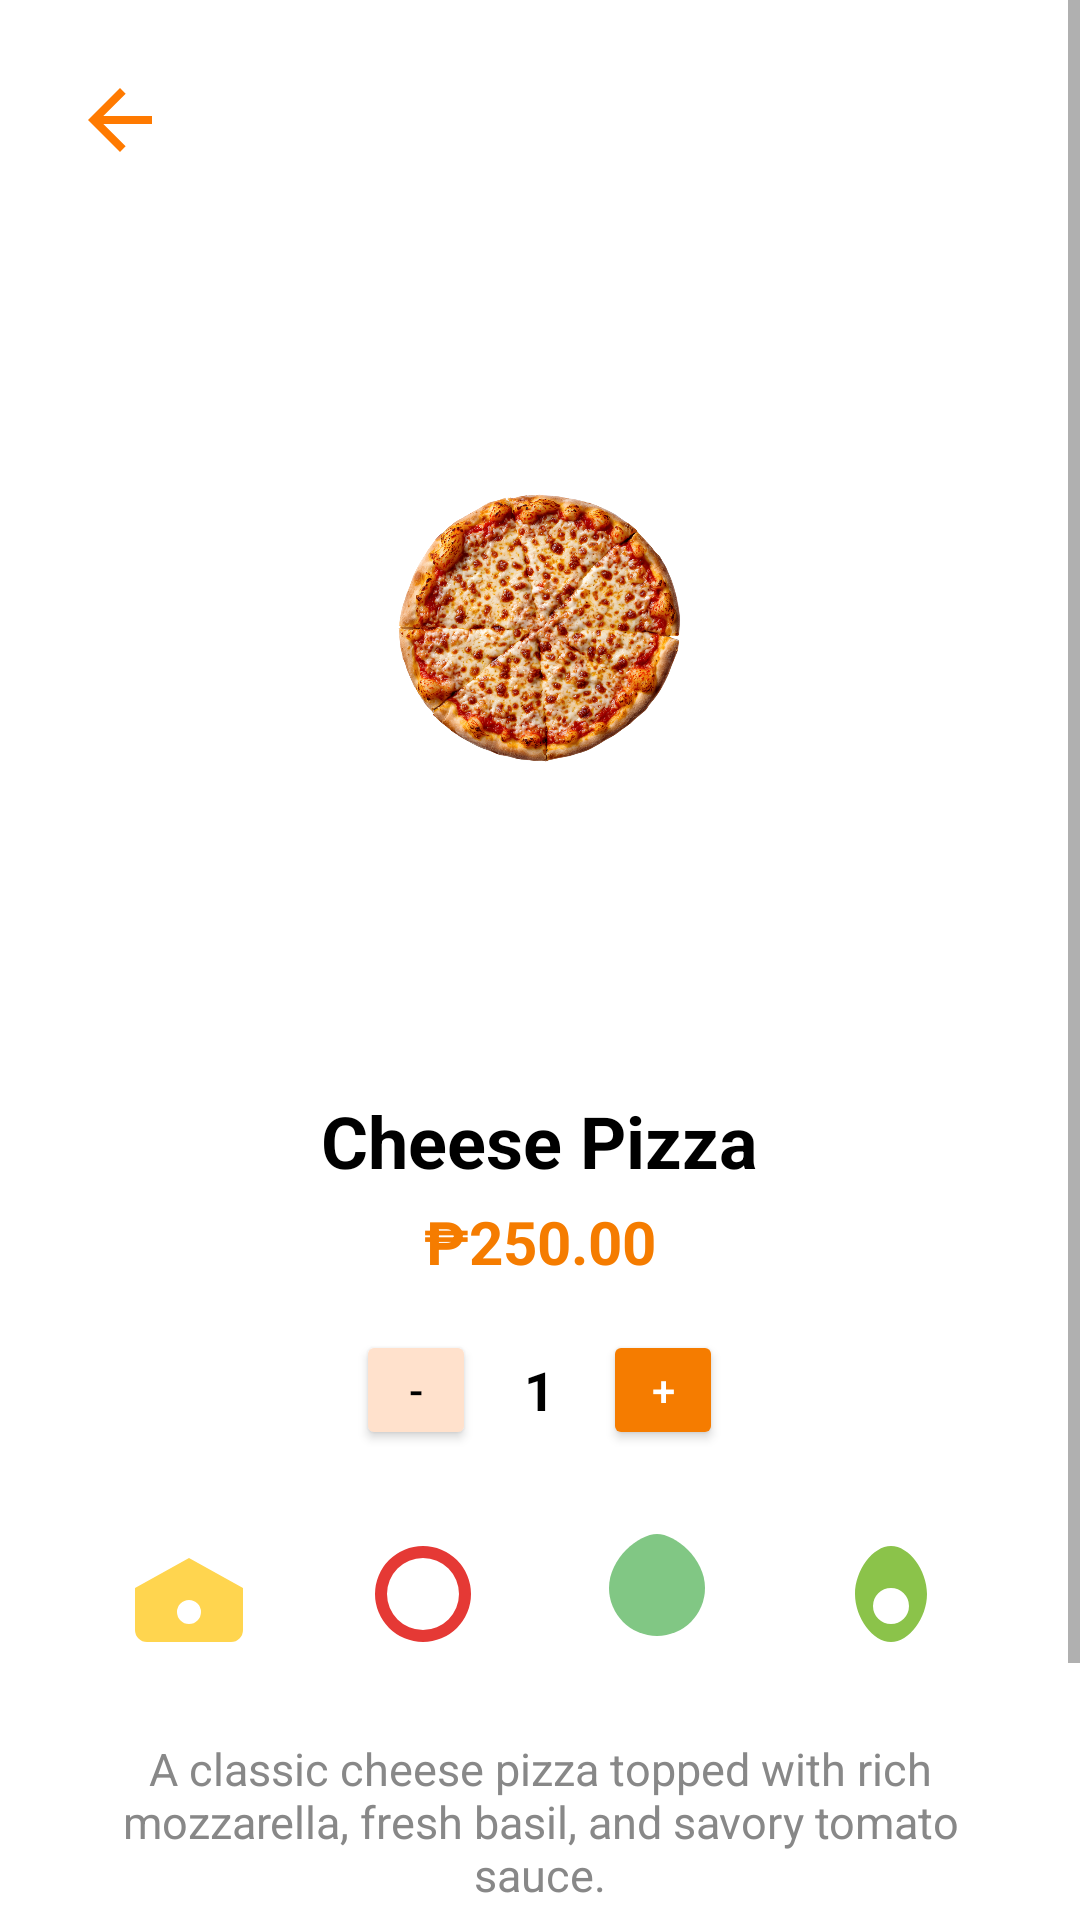

Icon bounding boxes for this 1080px×1920px phone screenshot, format [x1, y1, x2, y2]:
Back: [88, 88, 152, 152]
Olives: [855, 1546, 927, 1642]
